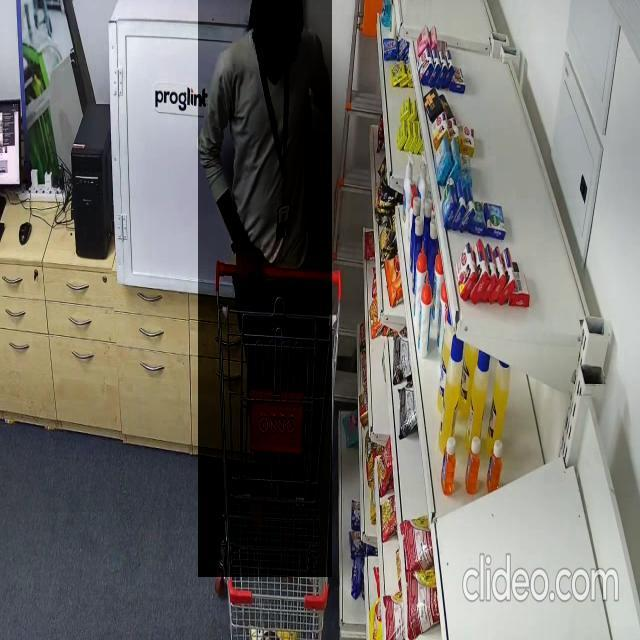Shoplifting: (198, 0, 332, 577)
